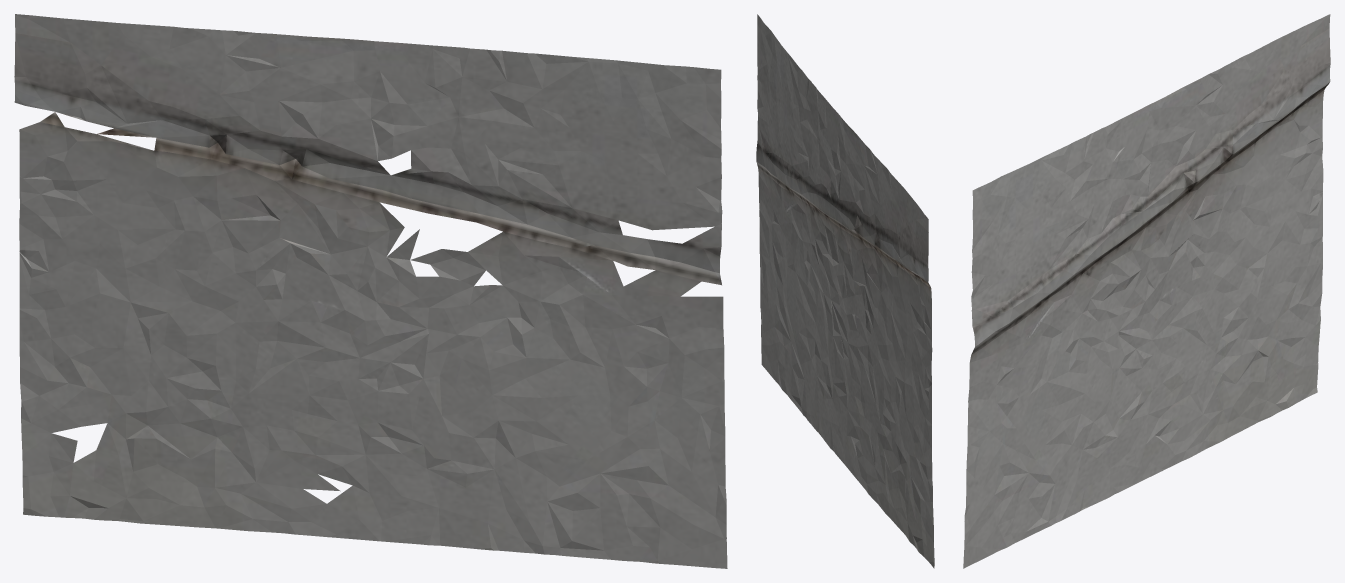
3 renders of one model, left to right at view 1: azimuth 30°, elevation 25°; view 2: azimuth 150°, elevation 25°; view 3: azimuth 270°, elevation 25°, orthographic. The views are drawn at different scales.
Size of the model in its own units: 0.8373 by 0.8374 by 0.7371.
4 materials, 4 textured.
